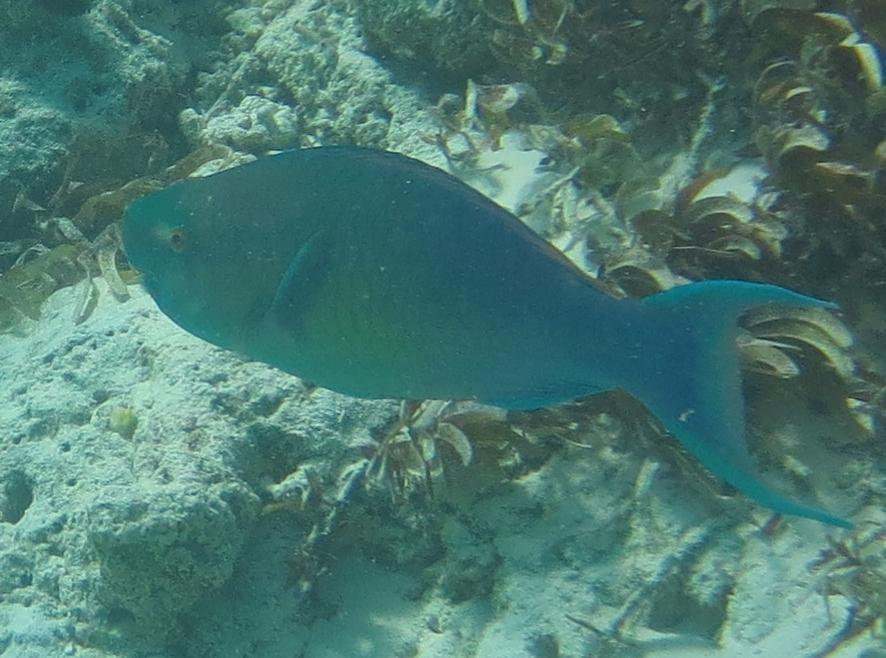Scarus rubroviolaceus: (102, 136, 843, 534)
